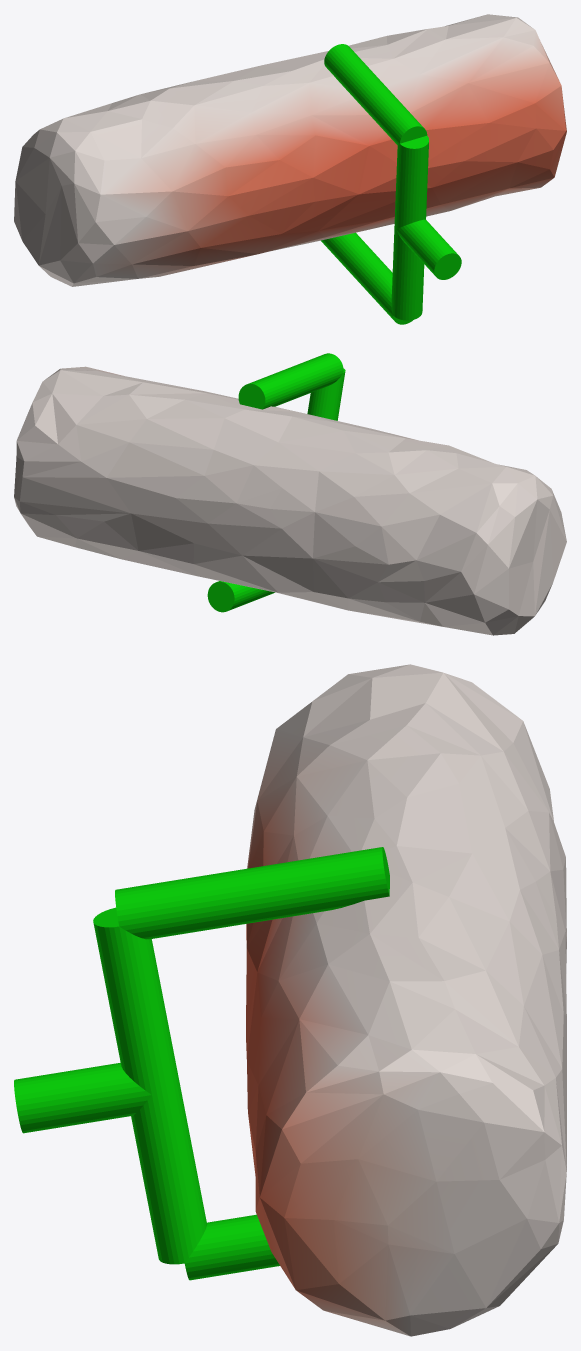
File: round_000_trial_000.obj
3 views of the same model, one above another, from view 1: azimuth 30°, elevation 25°; view 2: azimuth 150°, elevation 25°; view 3: azimuth 270°, elevation 25° (orthographic). The views are drawn at different scales.
Parts seen in each view (by area): view 1: geometry_0, geometry_1; view 2: geometry_0, geometry_1; view 3: geometry_0, geometry_1.
Part boxes in pixels (x1,y1,x2,y2): geometry_0: [14, 14, 566, 286]; geometry_1: [321, 44, 461, 324]; geometry_0: [14, 366, 566, 635]; geometry_1: [207, 353, 345, 612]; geometry_0: [246, 664, 566, 1336]; geometry_1: [14, 847, 389, 1280].
Bounding box in the file's own units: 0.1824 × 0.0851 × 0.1017.
